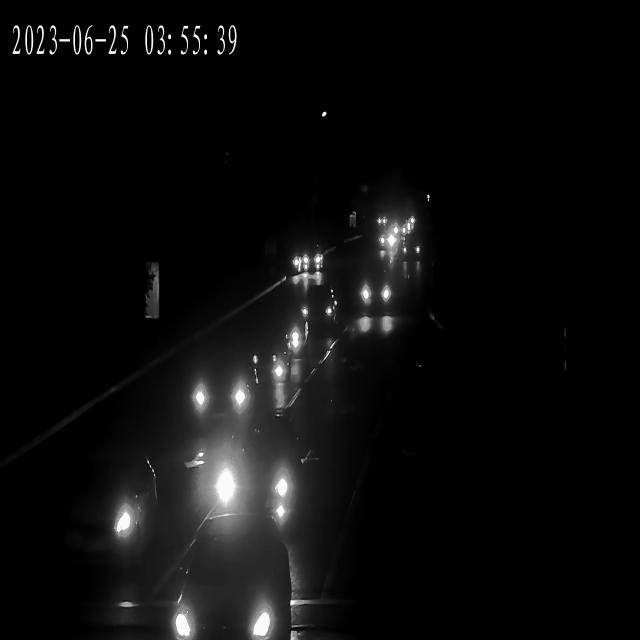Car: (167, 523, 289, 638), (62, 455, 160, 573), (199, 433, 304, 539), (184, 354, 253, 424), (252, 313, 310, 364), (241, 334, 294, 387), (294, 288, 335, 326), (355, 274, 393, 312), (399, 241, 421, 261), (376, 231, 396, 250), (404, 240, 423, 260), (372, 230, 392, 248), (304, 253, 324, 269), (303, 260, 322, 275), (301, 254, 320, 269), (290, 256, 308, 271), (291, 252, 306, 266), (389, 223, 406, 235), (375, 215, 389, 227)
